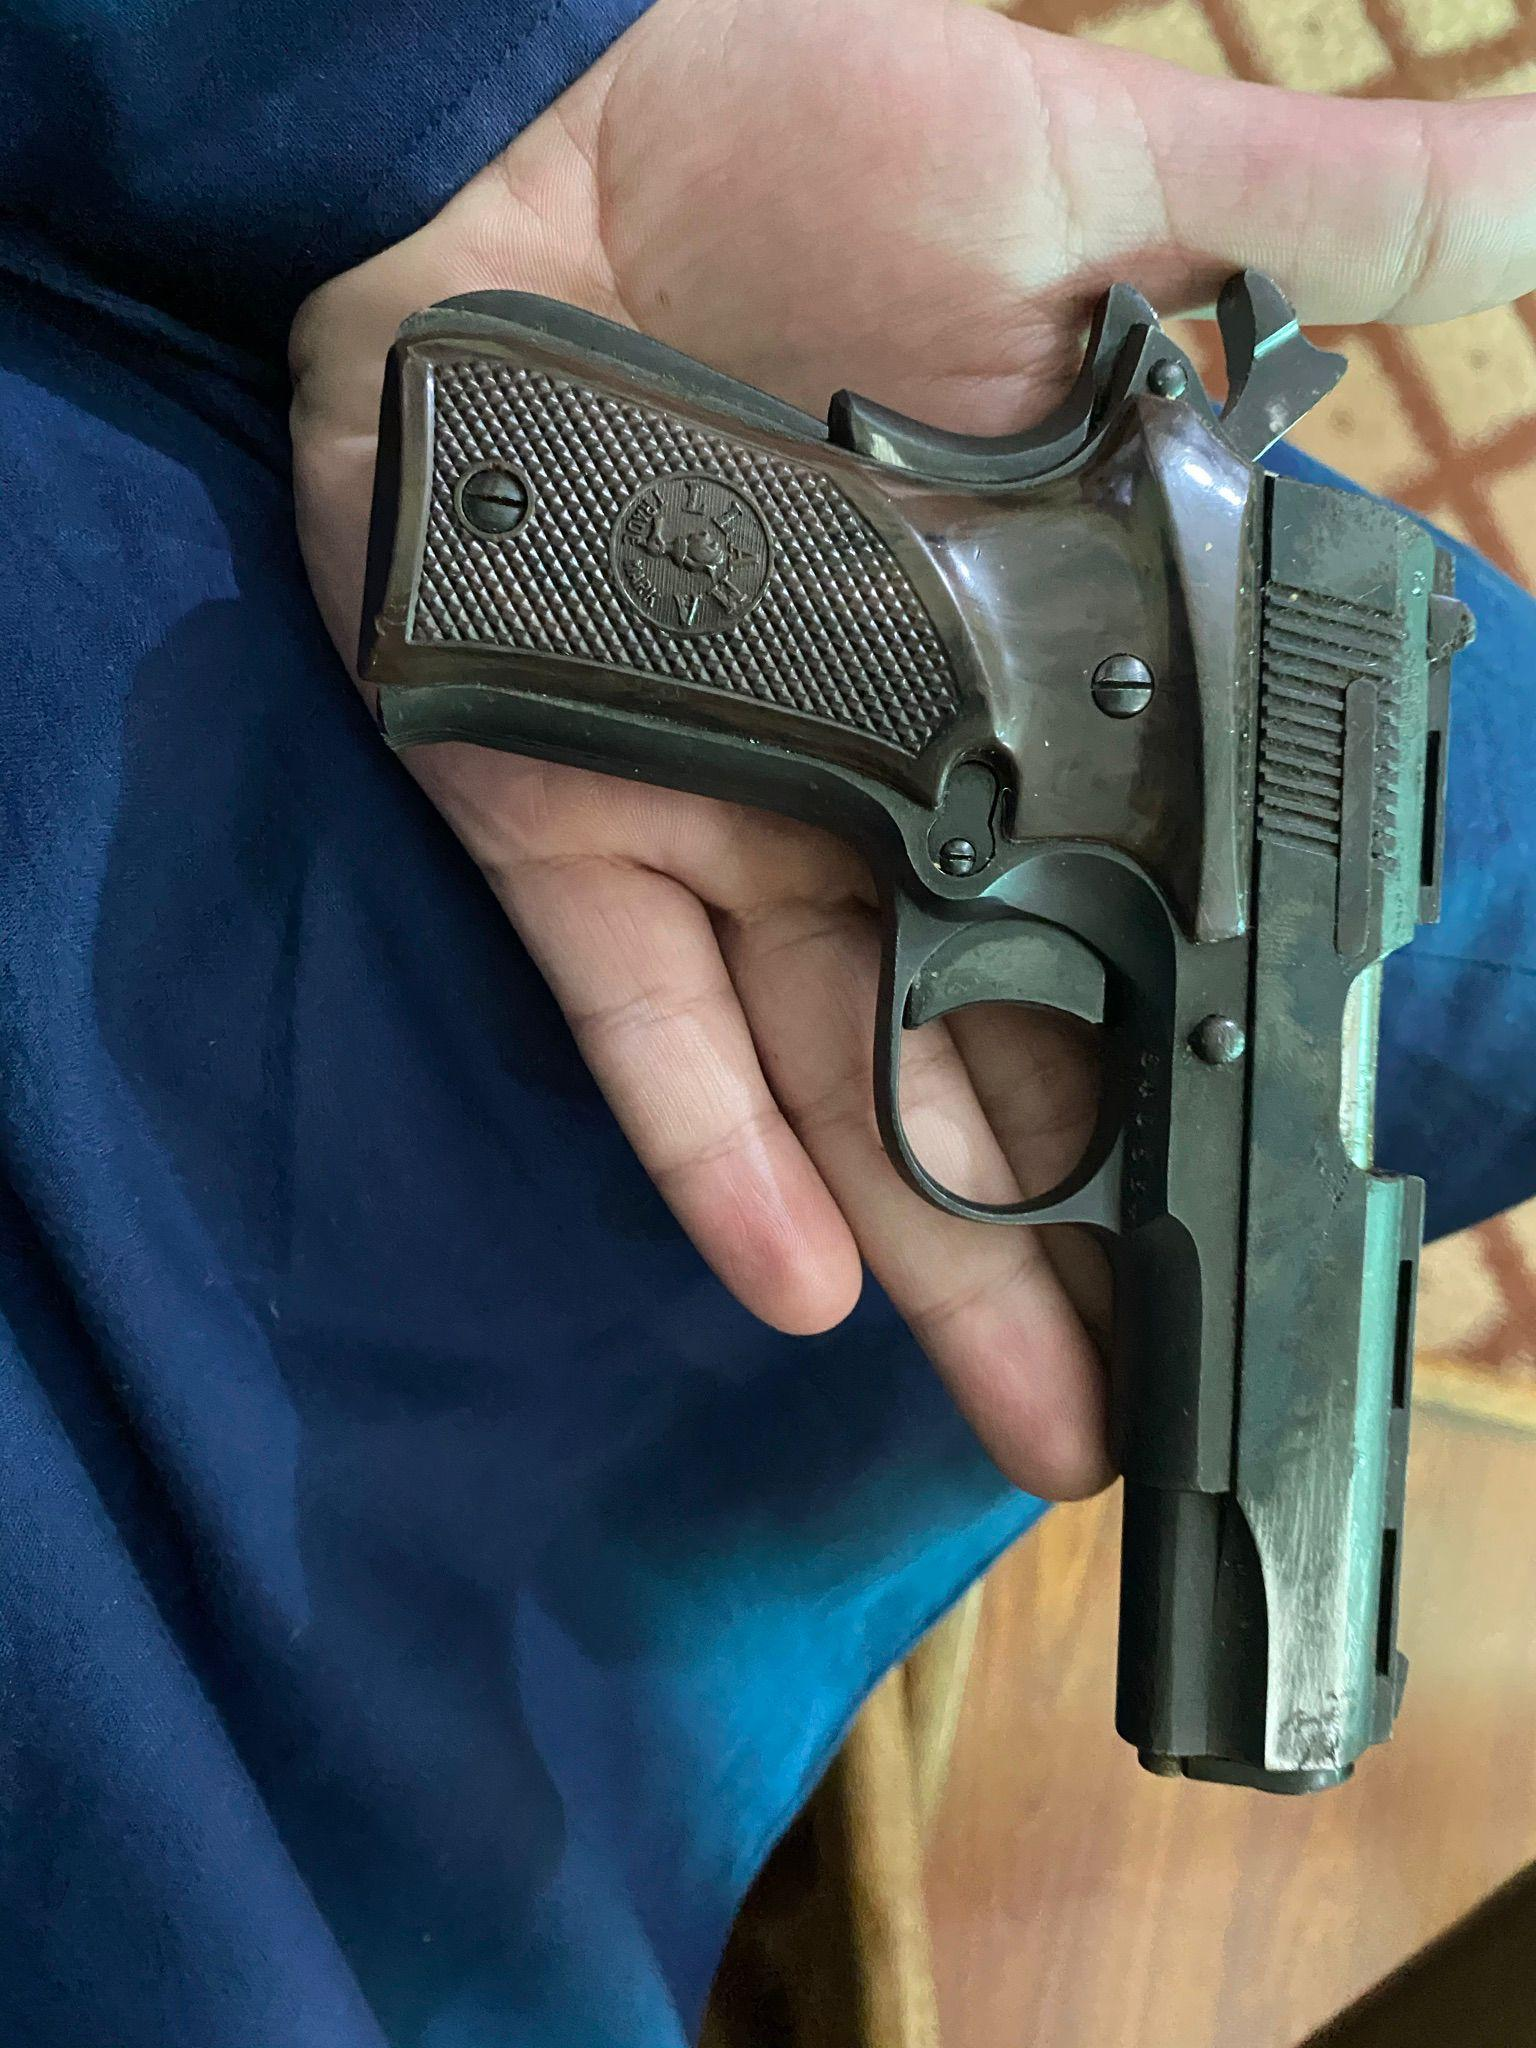weapon: (353, 256, 1481, 1793)
